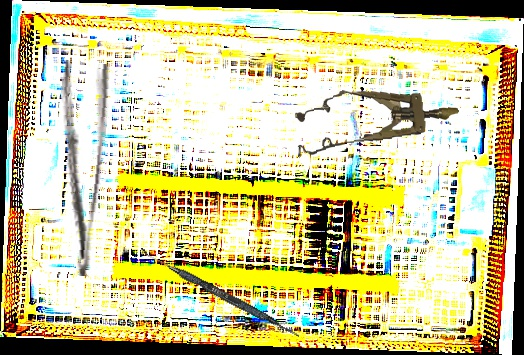Dressing Forceps: (42, 60, 113, 277)
Spatula Surgical: (136, 247, 303, 339)
Speculum: (292, 78, 462, 160)
